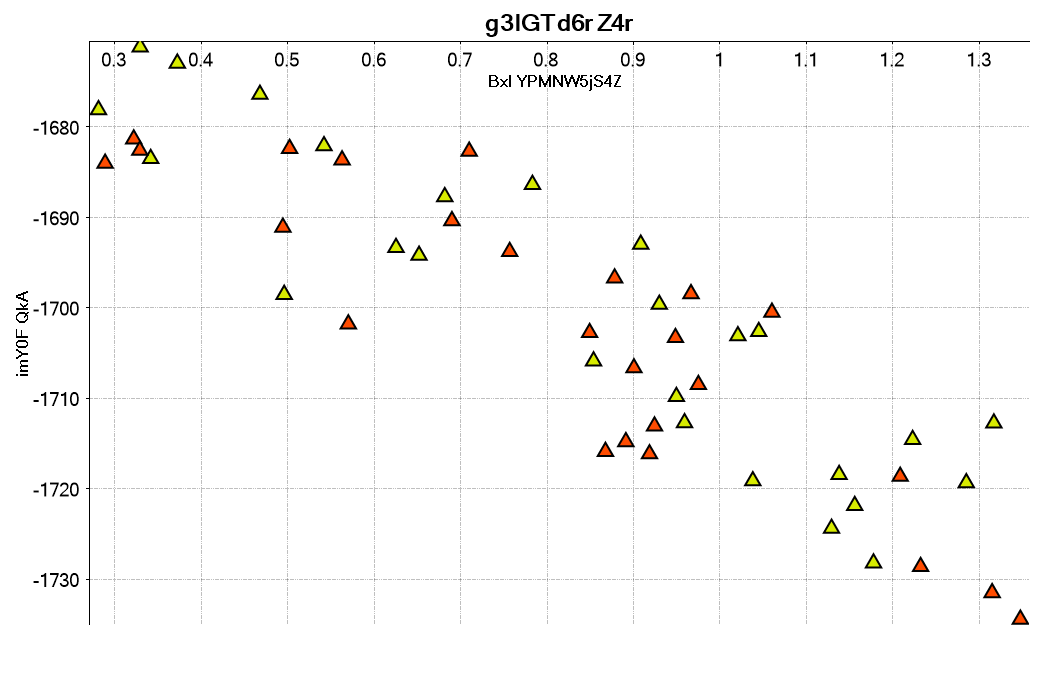label: (33, 567, 81, 589), (33, 296, 81, 318), (33, 115, 81, 137), (33, 477, 81, 498), (33, 387, 81, 408), (33, 206, 81, 227), (446, 47, 473, 68), (619, 47, 646, 68), (101, 47, 127, 68), (187, 47, 213, 68), (274, 47, 300, 68), (360, 47, 386, 68), (533, 47, 559, 68), (792, 47, 818, 68), (879, 47, 905, 68), (965, 47, 991, 68), (714, 47, 724, 68)
point: (891, 466, 907, 480), (96, 153, 112, 167), (460, 141, 476, 155), (275, 284, 291, 298), (763, 302, 779, 316), (274, 217, 290, 231), (410, 245, 426, 259), (251, 84, 267, 98), (651, 294, 666, 308), (1012, 609, 1027, 623), (632, 234, 647, 248), (169, 53, 184, 67), (131, 140, 146, 154), (524, 174, 539, 188), (597, 441, 612, 455), (823, 518, 838, 532), (830, 465, 846, 478), (983, 583, 999, 596), (625, 358, 641, 371), (387, 238, 403, 251), (333, 150, 349, 163), (443, 211, 459, 224), (315, 136, 331, 149), (131, 37, 147, 50), (682, 284, 698, 297), (904, 430, 919, 443), (865, 553, 880, 566), (676, 413, 691, 426), (617, 432, 632, 445), (912, 557, 927, 570), (958, 473, 973, 486), (581, 323, 596, 336), (142, 149, 157, 162), (690, 375, 705, 388), (90, 100, 105, 113), (125, 129, 140, 142), (585, 351, 600, 364), (641, 444, 656, 457), (281, 139, 296, 152), (501, 242, 516, 255), (340, 314, 355, 327), (646, 416, 661, 429), (606, 268, 621, 281), (744, 471, 759, 484), (846, 496, 861, 509), (729, 326, 744, 339), (667, 328, 682, 341), (436, 187, 451, 200), (750, 322, 765, 335), (985, 413, 1000, 426), (668, 387, 683, 400)
tick: (109, 37, 119, 47), (195, 37, 205, 47), (282, 37, 292, 47), (368, 37, 378, 47), (455, 37, 465, 47), (541, 37, 551, 47), (627, 37, 637, 47), (714, 37, 724, 47), (800, 37, 810, 47), (887, 37, 897, 47), (973, 37, 983, 47), (82, 573, 92, 583), (82, 483, 92, 493), (82, 392, 92, 402), (82, 302, 92, 312), (82, 211, 92, 221), (82, 121, 92, 131)
